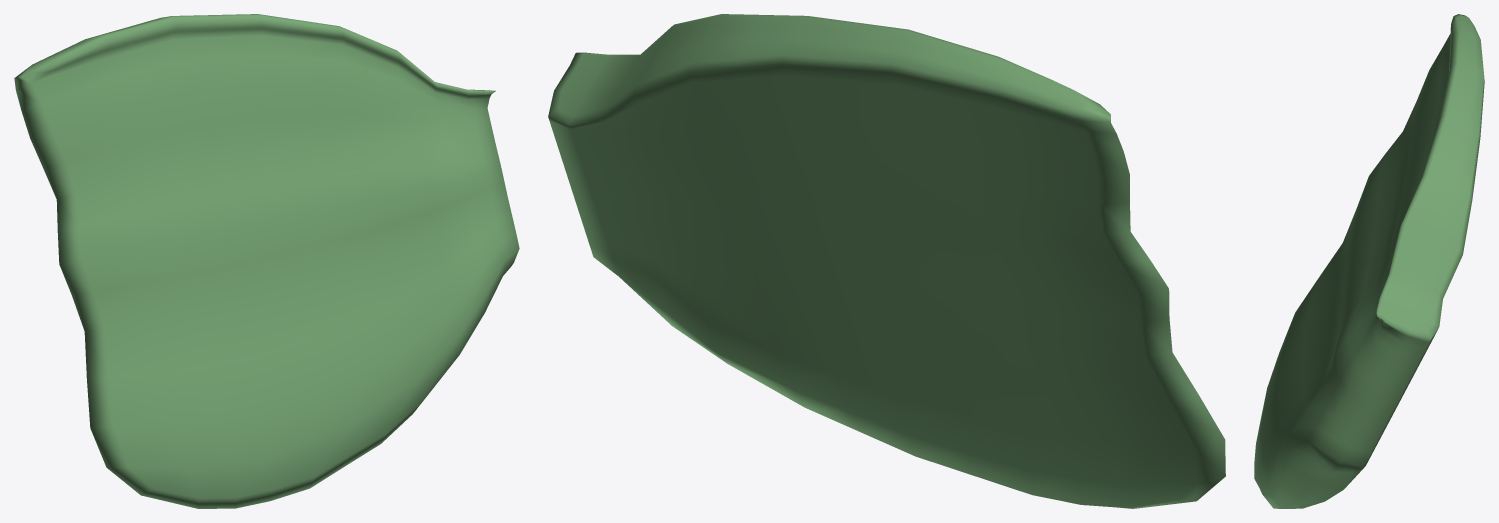
The model's file is fin_L_02.fbx.
3 views of the same model, side by side, from view 1: azimuth 30°, elevation 25°; view 2: azimuth 150°, elevation 25°; view 3: azimuth 270°, elevation 25° (orthographic). The views are drawn at different scales.
Parts seen in each view (by area): view 1: high_fin_L; view 2: high_fin_L; view 3: high_fin_L.
Boxes of the visible parts, box(x1,y1,x2,y2) form: high_fin_L: box(14, 14, 519, 508); high_fin_L: box(548, 14, 1225, 508); high_fin_L: box(1254, 14, 1484, 508).
Size of the model in its own units: 0.4555 by 0.4059 by 0.2055.
